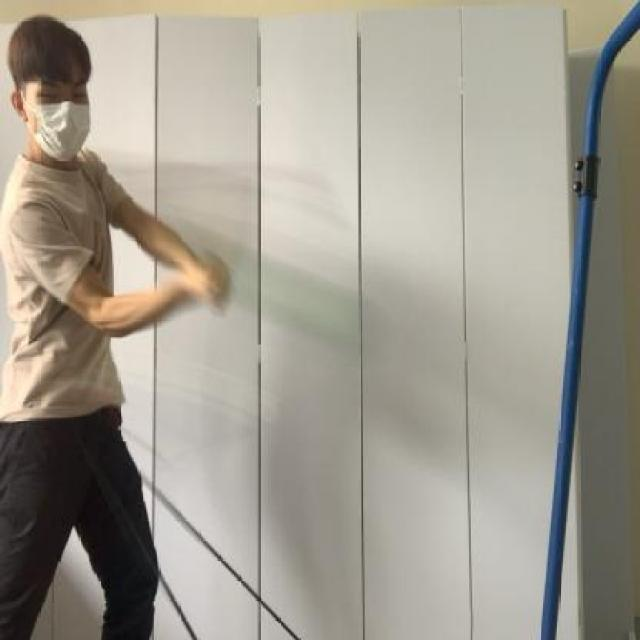baseball: (155, 213, 393, 364)
